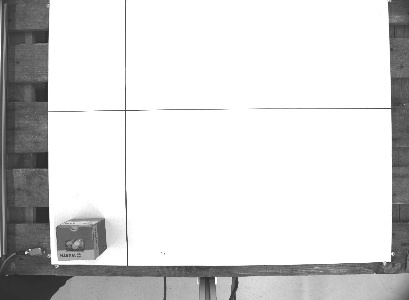b7: (52, 215, 108, 263)
